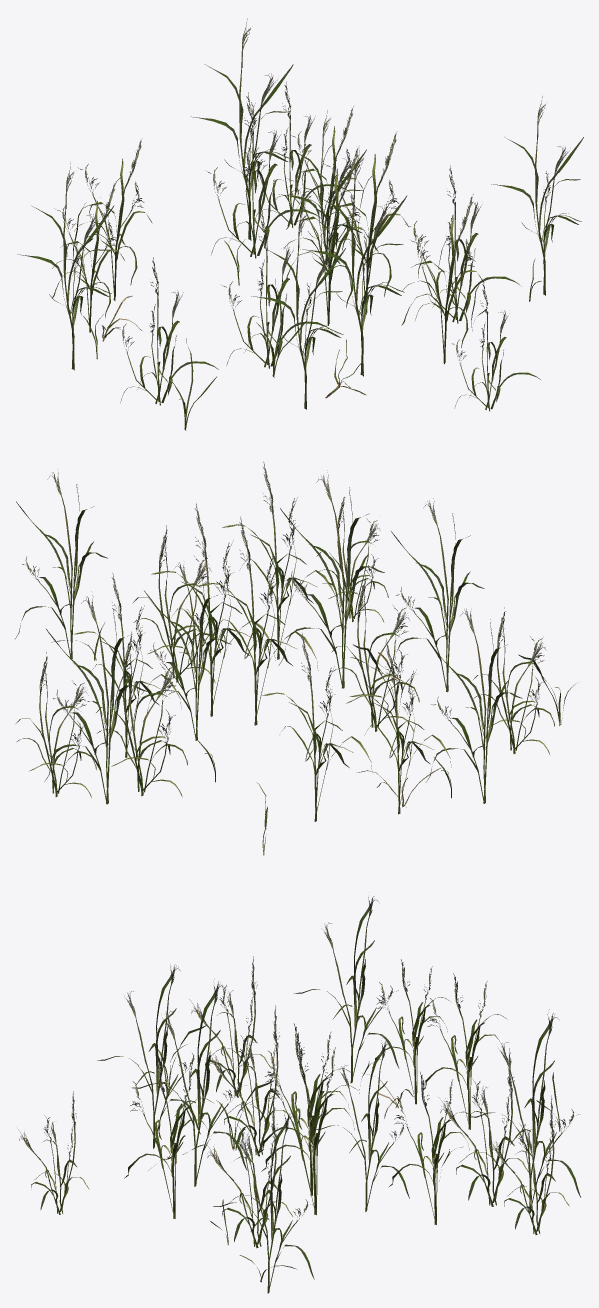
File: cc0_grass_patch_b.glb
3 views of the same model, one above another, from view 1: azimuth 30°, elevation 25°; view 2: azimuth 150°, elevation 25°; view 3: azimuth 270°, elevation 25° (orthographic). The views are drawn at different scales.
Parts seen in each view (by area): view 1: cc0_grass_patch_b; view 2: cc0_grass_patch_b; view 3: cc0_grass_patch_b.
Boxes of the visible parts, x1,y1,x2,y2 form: cc0_grass_patch_b: (17, 18, 583, 430); cc0_grass_patch_b: (15, 461, 575, 855); cc0_grass_patch_b: (18, 896, 580, 1293).
Bounding box in the file's own units: 0.9276 × 0.3747 × 0.8726.
Materials: 1 (1 with a texture image).
